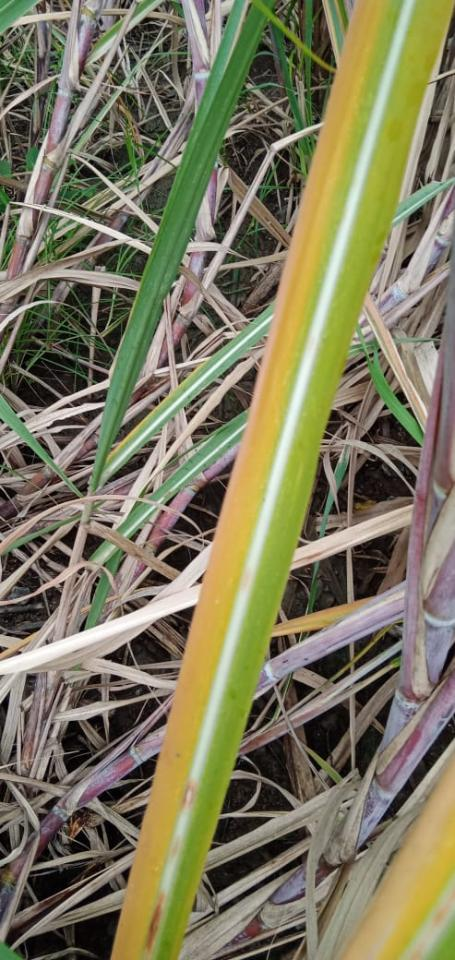RedRot: (147, 892, 164, 958), (433, 890, 454, 927), (182, 783, 196, 810), (170, 835, 182, 858), (409, 946, 423, 959)
Yellow: (111, 0, 390, 959), (335, 754, 454, 959)
